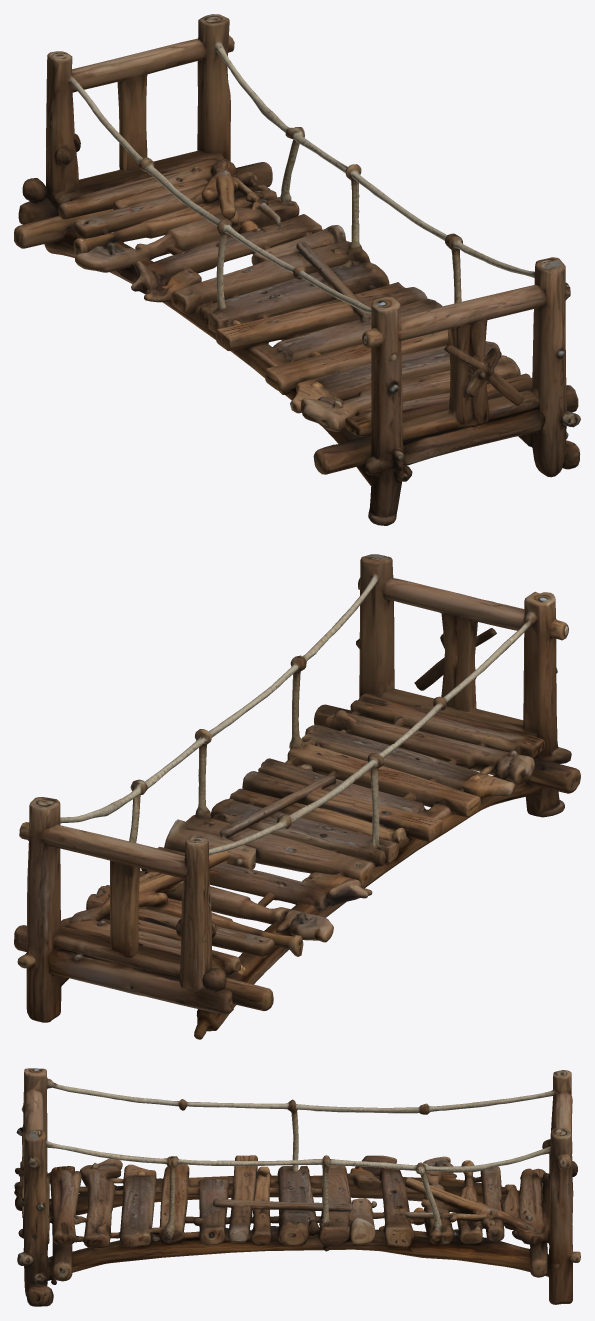
The model's file is city-bridge-wooden.glb.
3 renders of one model, top to bottom at view 1: azimuth 30°, elevation 25°; view 2: azimuth 150°, elevation 25°; view 3: azimuth 270°, elevation 25°, orthographic. The views are drawn at different scales.
Parts seen in each view (by area): view 1: tripo_node_0630865b-9a26-4623-bd1b-2d94545510c0; view 2: tripo_node_0630865b-9a26-4623-bd1b-2d94545510c0; view 3: tripo_node_0630865b-9a26-4623-bd1b-2d94545510c0.
Part boxes in pixels (<box>): tripo_node_0630865b-9a26-4623-bd1b-2d94545510c0: <box>14,14,580,525</box>; tripo_node_0630865b-9a26-4623-bd1b-2d94545510c0: <box>14,554,580,1039</box>; tripo_node_0630865b-9a26-4623-bd1b-2d94545510c0: <box>14,1068,580,1306</box>.
Bounding box in the file's own units: 3.77 × 3 × 9.08.
1 material, 1 textured.
